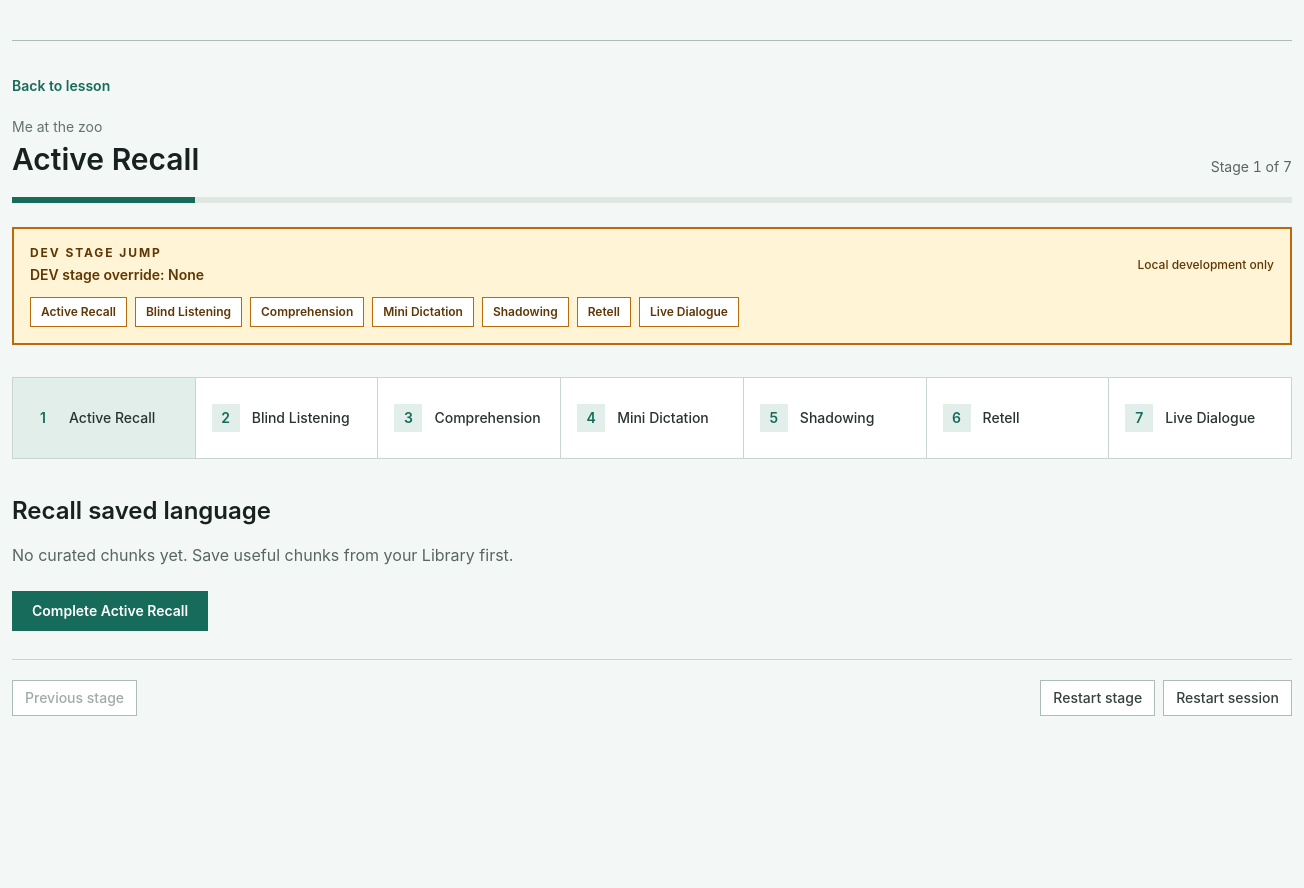
Test case: TrainingSession development stage jump › switches stages immediately and updates the URL while preserving other parameters
Step 1. Click the button "Shadowing" → point(525, 312), box [482,297,569,327]
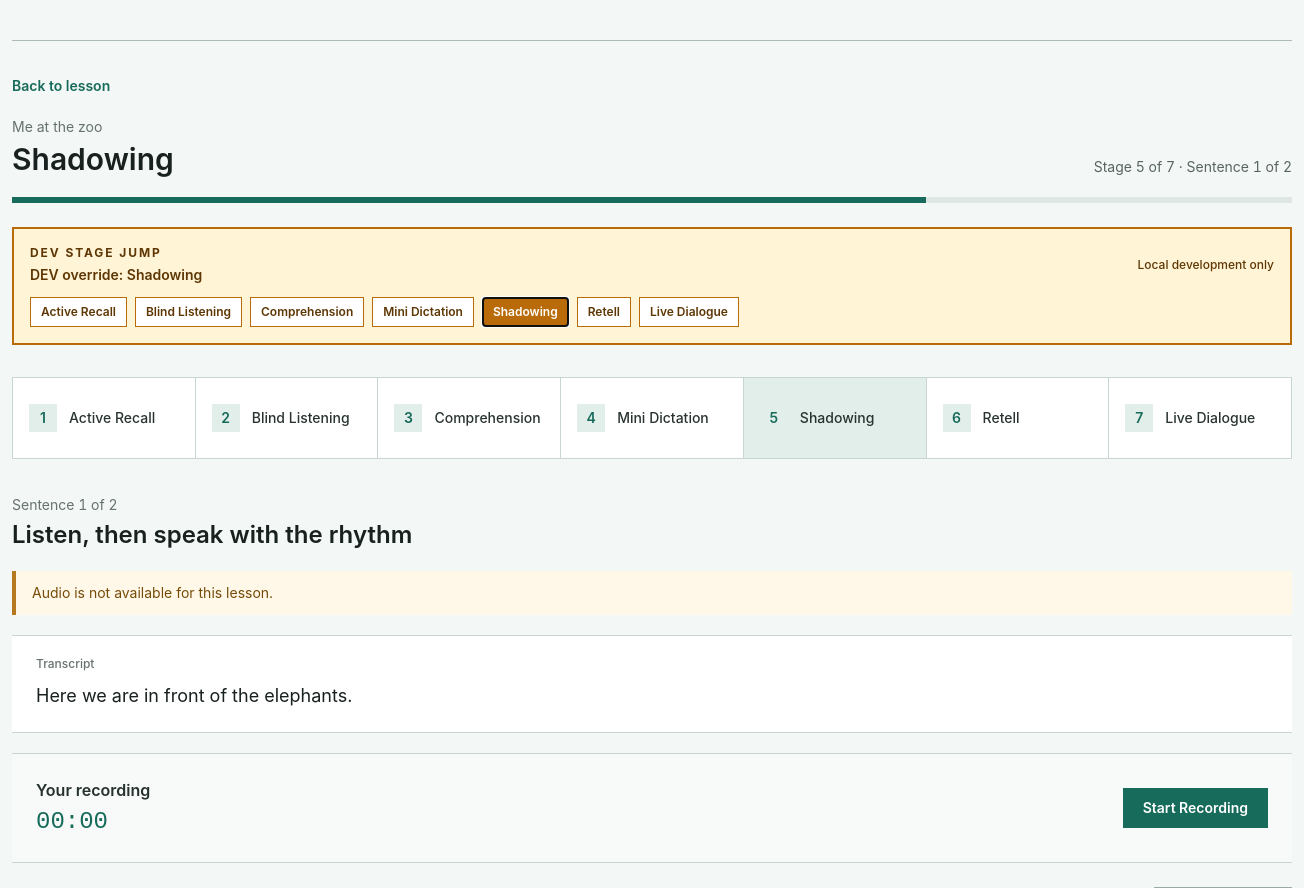
Expected: the heading "Shadowing" is shown, [12,141,174,177]
